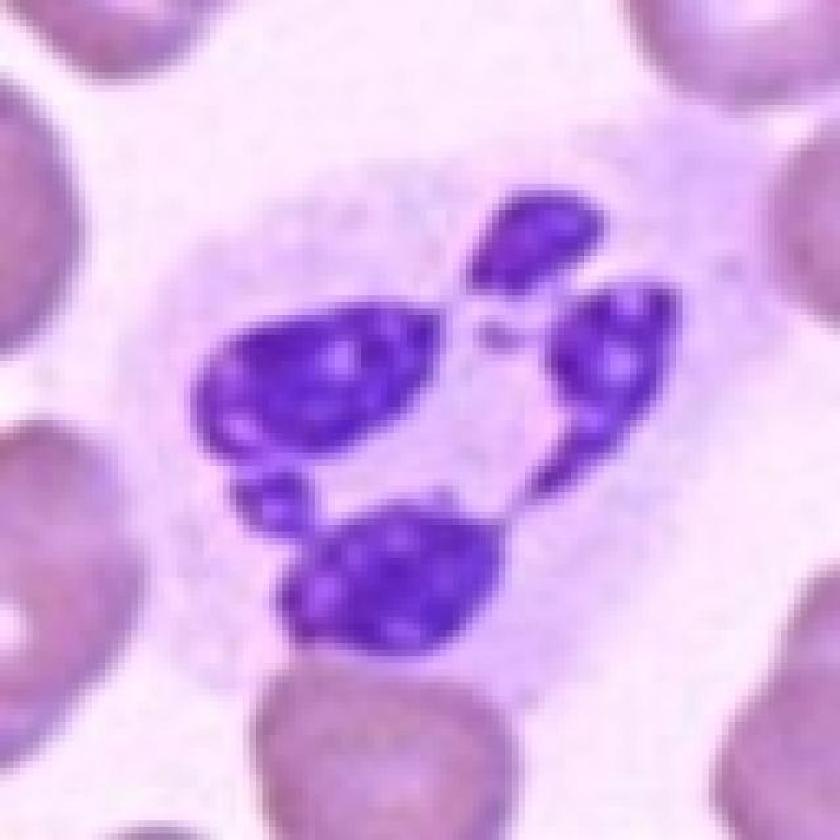neutrophil: (122, 223, 715, 665)
